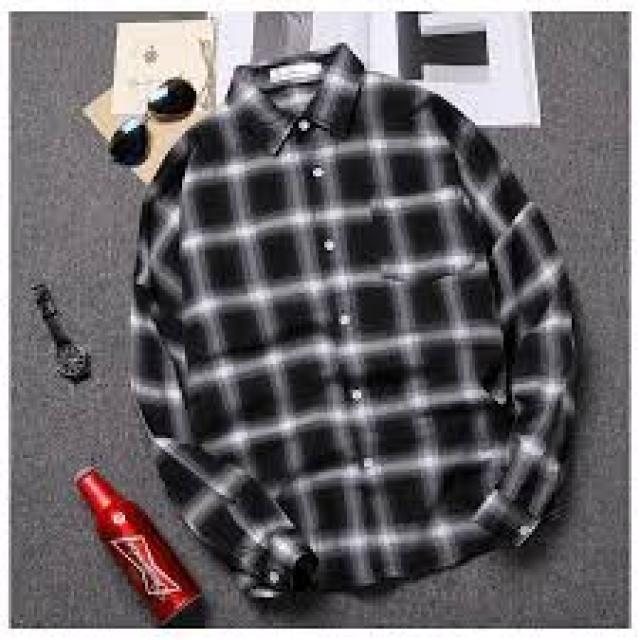plaid: (117, 54, 588, 603)
